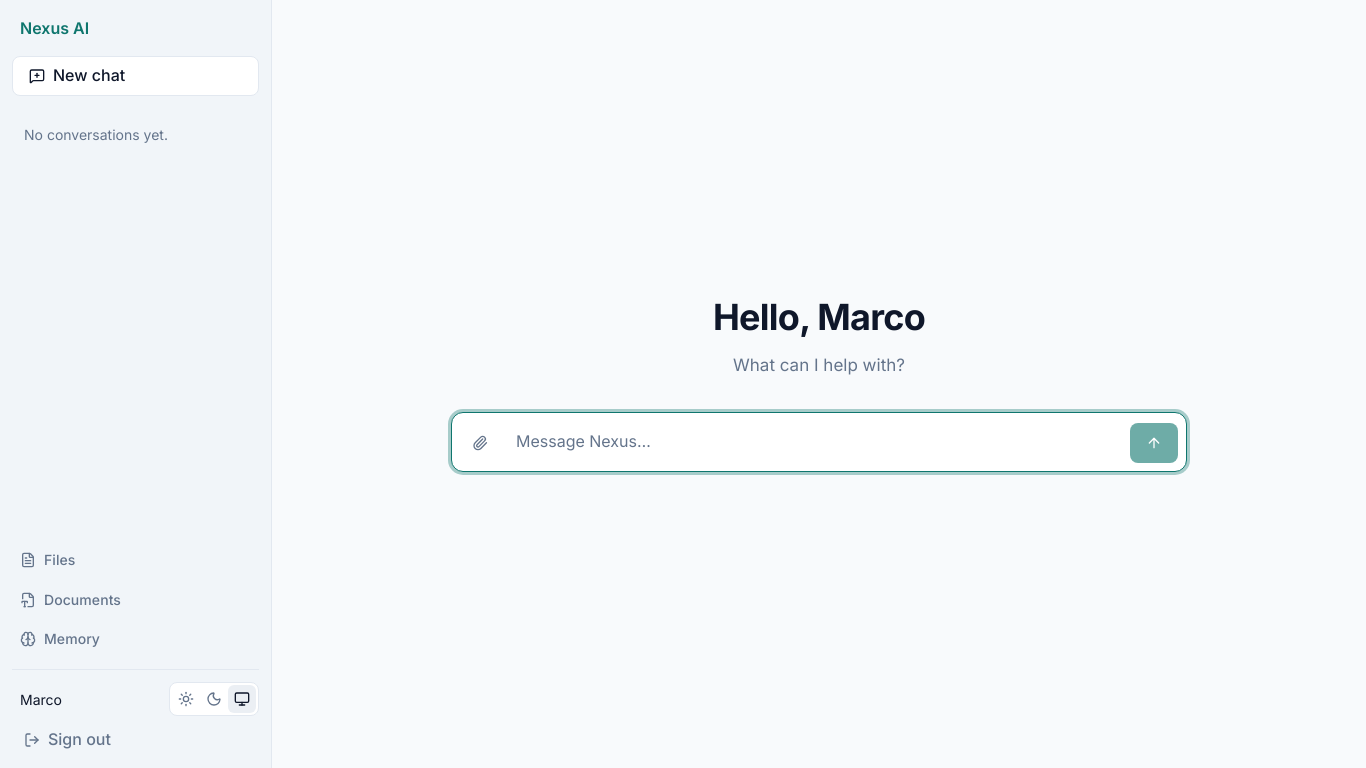
Test: new chat › reports a failure to create
This screenshot has width=1366, height=768.
Click the button "New chat".
click(136, 76)  # box [12,56,259,96]
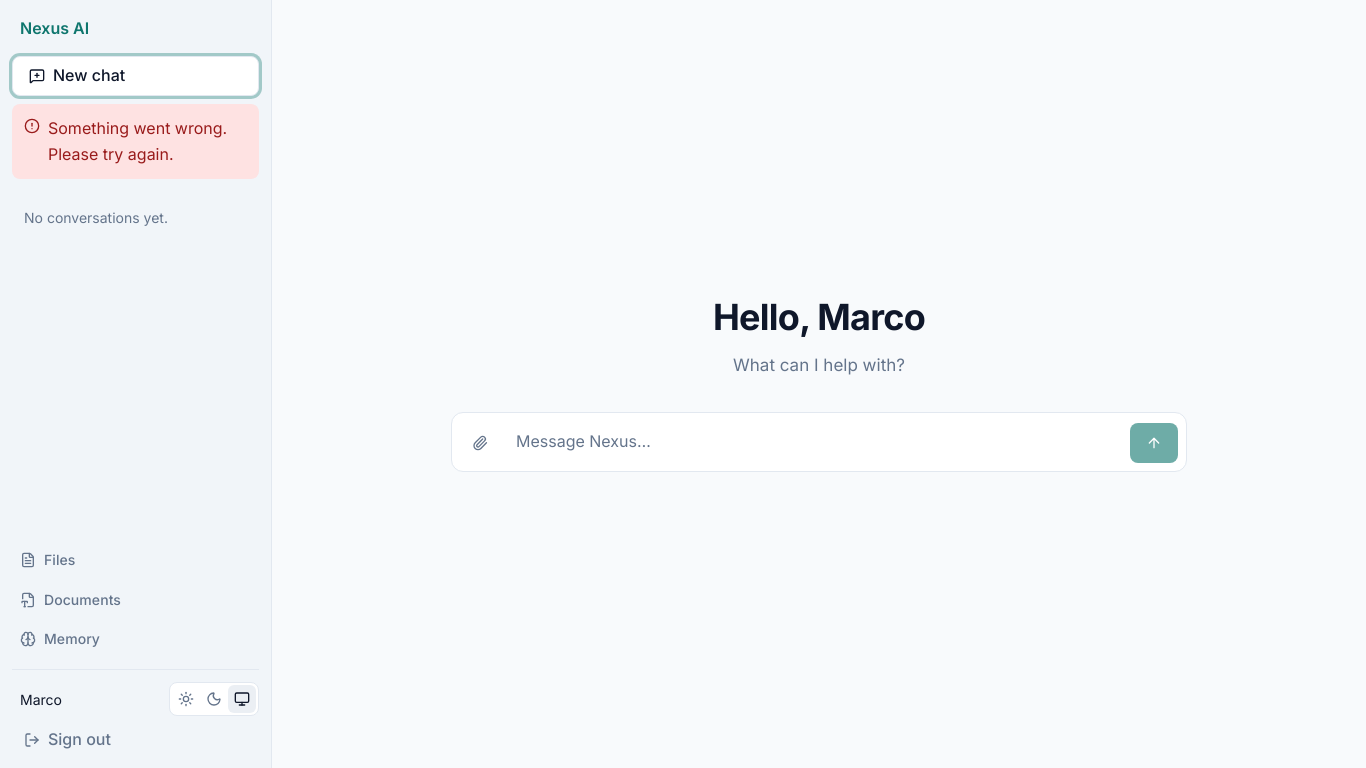
Expected: the message shows "Something went wrong", [48,118,227,164]
